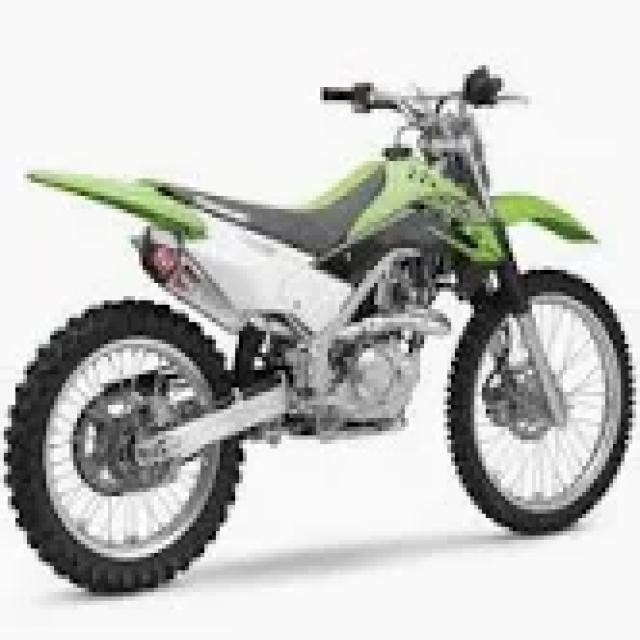motorcycle: (0, 61, 636, 592)
